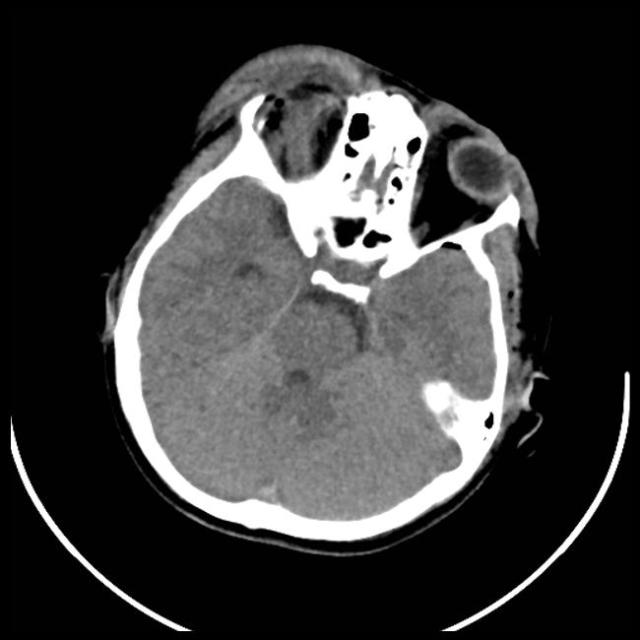lesion: (101, 44, 548, 544)
